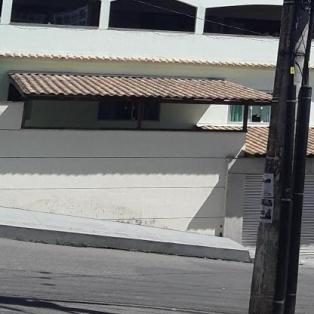Poste: (234, 0, 314, 314)
